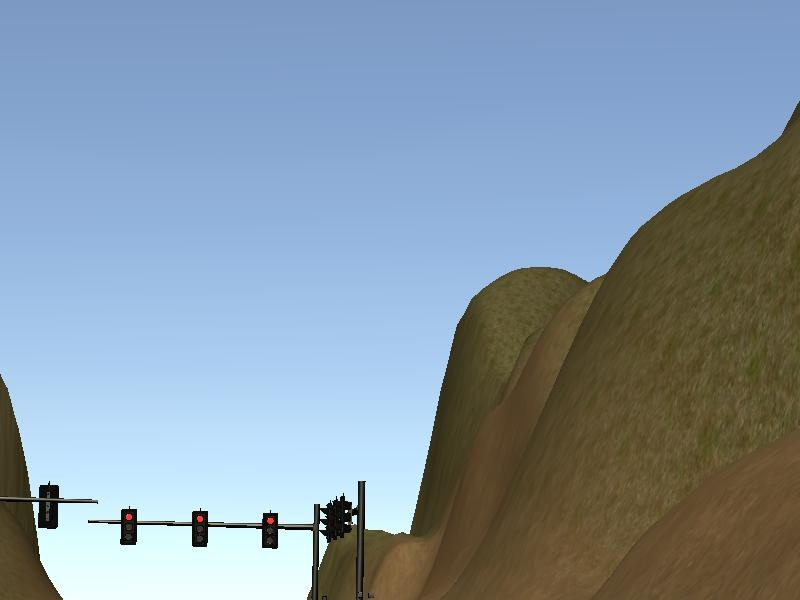red: (191, 512, 209, 545), (261, 513, 277, 548), (120, 511, 136, 545)
